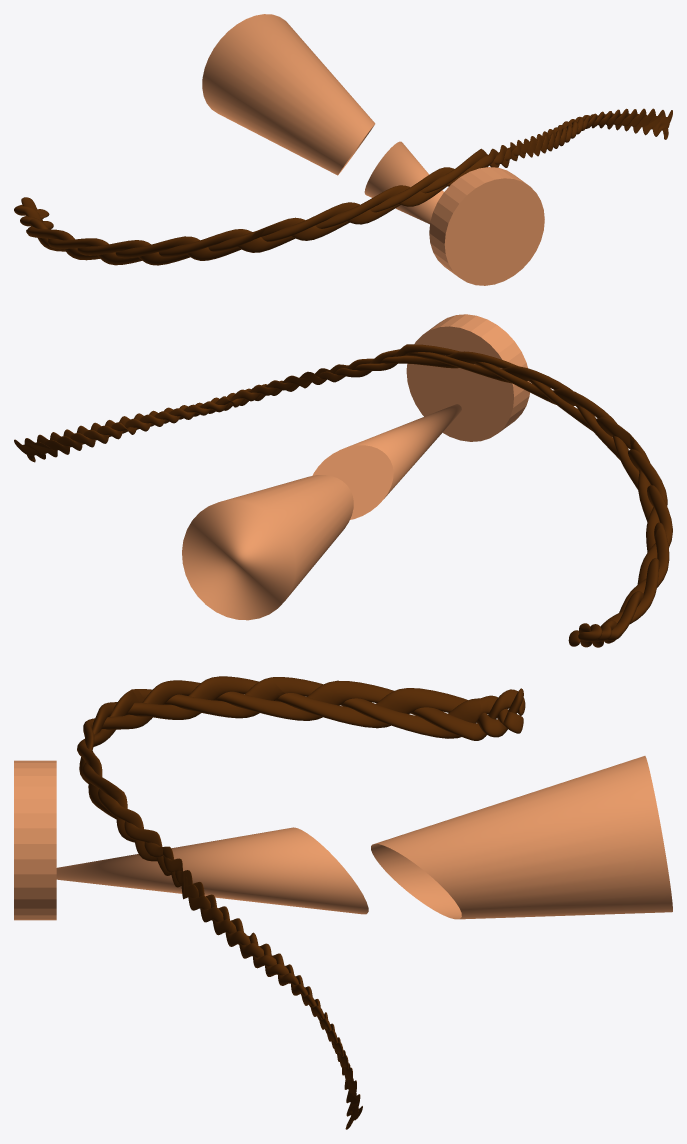
File: broken_statue.glb
3 renders of one model, top to bottom at view 1: azimuth 30°, elevation 25°; view 2: azimuth 150°, elevation 25°; view 3: azimuth 270°, elevation 25°, orthographic. The views are drawn at different scales.
Visible parts, largest first — view 1: Cone, rope2, Cylinder, Cone.001; view 2: rope2, Cone, Cylinder, Cone.001; view 3: Cone, rope2, Cone.001, Cylinder.
Boxes of the visible parts, box(x1,y1,x2,y2) form: Cone: box(202, 14, 375, 175); rope2: box(14, 108, 672, 265); Cylinder: box(429, 167, 544, 285); Cone.001: box(364, 141, 443, 224); rope2: box(14, 344, 672, 647); Cone: box(182, 475, 353, 620); Cylinder: box(406, 314, 530, 441); Cone.001: box(312, 404, 461, 519); Cone: box(371, 756, 672, 919); rope2: box(77, 676, 525, 1129); Cone.001: box(56, 827, 368, 914); Cylinder: box(14, 760, 56, 920).
Size of the model in its own units: 12.1 by 2.28 by 8.26.
